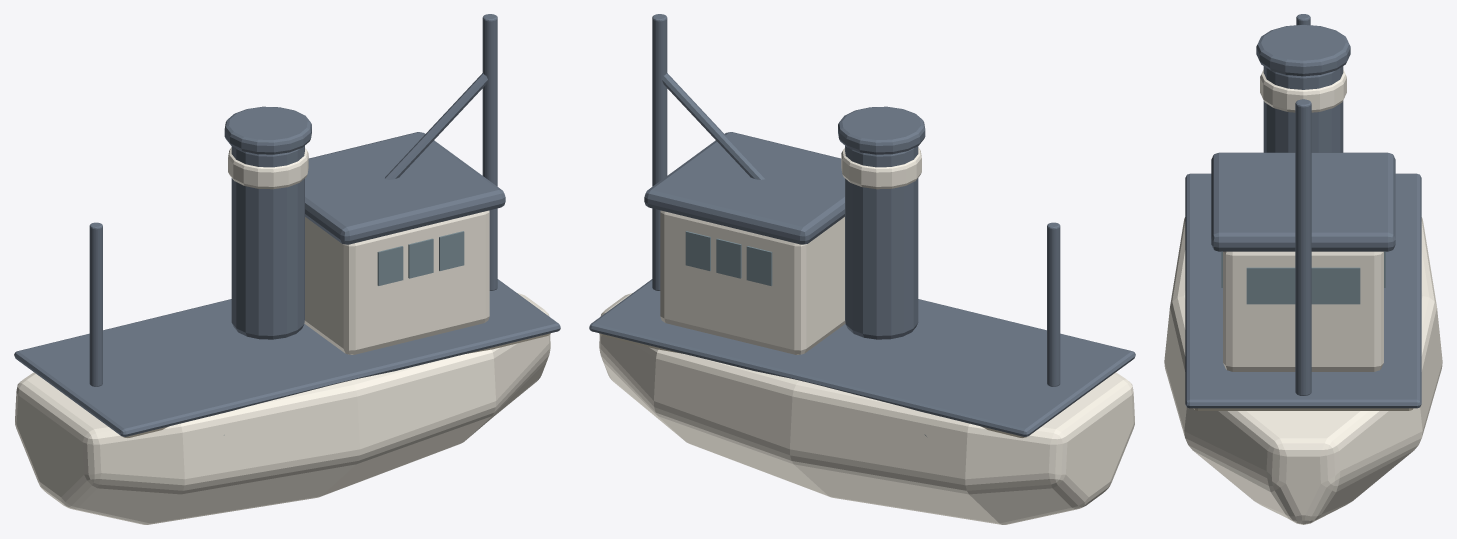
File: fishboat.glb
The picture shows the model from 3 angles, left to right: view 1: azimuth 30°, elevation 25°; view 2: azimuth 150°, elevation 25°; view 3: azimuth 270°, elevation 25°; orthographic projection. The views are drawn at different scales.
Visible parts, largest first — view 1: Hull, Trim, Wheelhouse, WHRoof, Chimney, ChimneyCap, Mast, MastStern, ChimneyBand, Boom, Window, Window.001 (+1 smaller); view 2: Hull, Trim, Wheelhouse, WHRoof, Chimney, ChimneyCap, Mast, MastStern, ChimneyBand, Boom, Window.003, Window.004 (+1 smaller); view 3: Hull, Trim, WHRoof, Wheelhouse, Mast, Chimney, ChimneyCap, WindowFront, ChimneyBand, Deck.
Boxes of the visible parts, x1,y1,x2,y2 form: Hull: (15,293,550,524); Trim: (14,279,560,436); Wheelhouse: (304,210,489,354); WHRoof: (305,132,505,244); Chimney: (231,146,304,339); ChimneyCap: (224,106,311,154); Mast: (482,14,497,290); MastStern: (89,222,102,386); ChimneyBand: (228,147,308,189); Boom: (385,73,487,179); Window: (377,246,403,285); Window.001: (408,238,433,278); Hull: (599,293,1134,524); Trim: (589,279,1135,436); Wheelhouse: (660,210,845,354); WHRoof: (644,132,844,244); Chimney: (845,146,918,339); ChimneyCap: (838,106,925,154); Mast: (652,14,667,290); MastStern: (1047,222,1060,386); ChimneyBand: (841,147,921,189); Boom: (662,73,764,179); Window.003: (746,246,772,285); Window.004: (716,238,741,278); Hull: (1164,217,1442,524); Trim: (1185,173,1421,408); WHRoof: (1211,152,1395,251); Wheelhouse: (1223,251,1383,371); Mast: (1295,99,1311,395); Chimney: (1263,66,1343,152); ChimneyCap: (1256,24,1350,76); WindowFront: (1246,267,1360,304); ChimneyBand: (1260,70,1346,112); Deck: (1193,408,1413,410).
Bounding box in the file's own units: 6.4 × 5.25 × 2.94.
